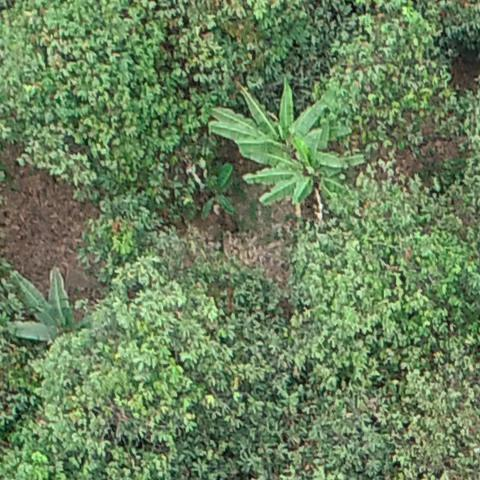Banana-plant: (213, 74, 352, 180), (5, 259, 114, 366), (242, 126, 354, 212)
